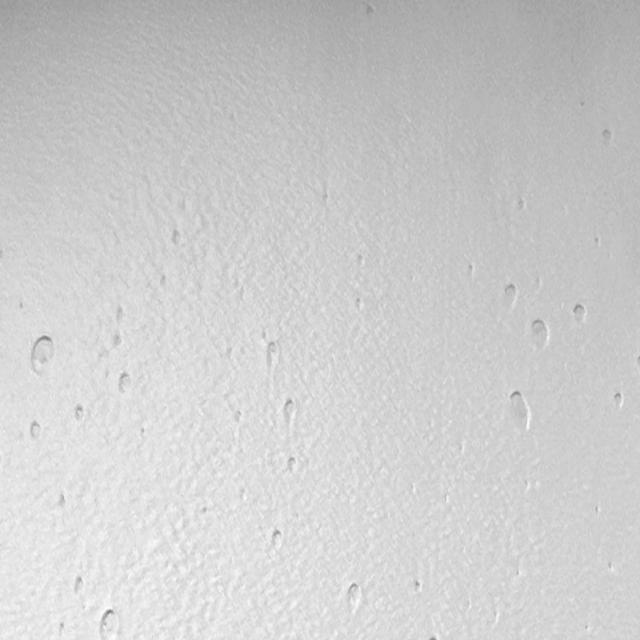pin holes: (503, 389, 536, 438), (31, 332, 59, 372), (99, 606, 122, 640), (532, 317, 553, 349), (343, 582, 365, 612), (500, 279, 520, 309), (267, 528, 287, 558), (569, 301, 590, 329), (278, 398, 297, 426), (117, 371, 137, 397), (597, 126, 616, 152), (27, 418, 45, 444), (70, 572, 86, 599), (610, 391, 628, 414), (462, 260, 480, 282), (265, 343, 280, 369), (55, 488, 71, 512), (73, 403, 90, 425), (169, 228, 186, 249), (286, 456, 302, 476), (363, 4, 378, 24), (112, 332, 127, 351), (352, 296, 366, 314), (232, 408, 246, 426), (115, 304, 128, 323), (514, 197, 529, 213), (199, 504, 213, 520), (56, 620, 69, 637), (411, 578, 424, 594), (356, 254, 369, 270), (592, 233, 603, 249), (17, 298, 28, 314), (581, 622, 591, 635)
